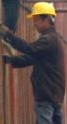boots: (56, 0, 67, 6), (59, 0, 67, 7)
gloves: (0, 24, 15, 42), (2, 54, 14, 63)
hard-hat: (26, 2, 57, 19)
